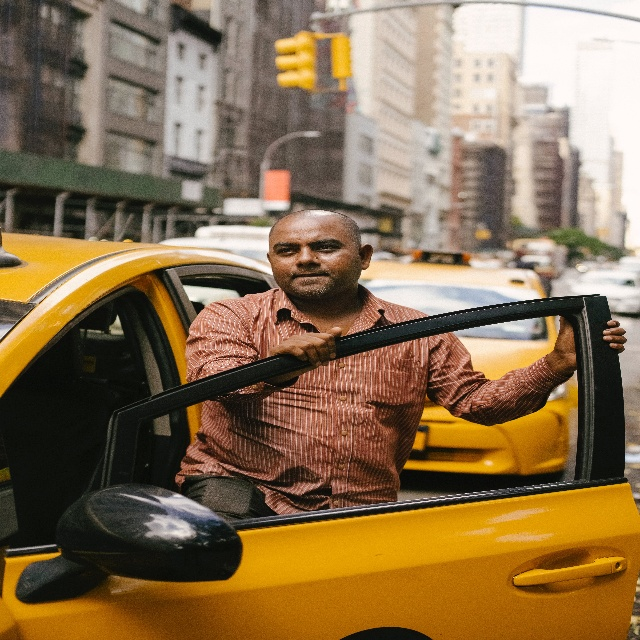Sin_guantes: (266, 327, 341, 383), (555, 315, 627, 369)
